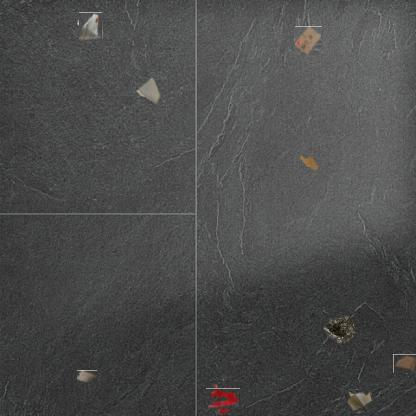dirty: (323, 311, 356, 345), (294, 26, 323, 55), (135, 76, 161, 104), (77, 14, 104, 40), (346, 389, 370, 414), (394, 352, 416, 374), (77, 370, 97, 383)
liquid: (210, 385, 237, 413), (299, 154, 317, 172)
